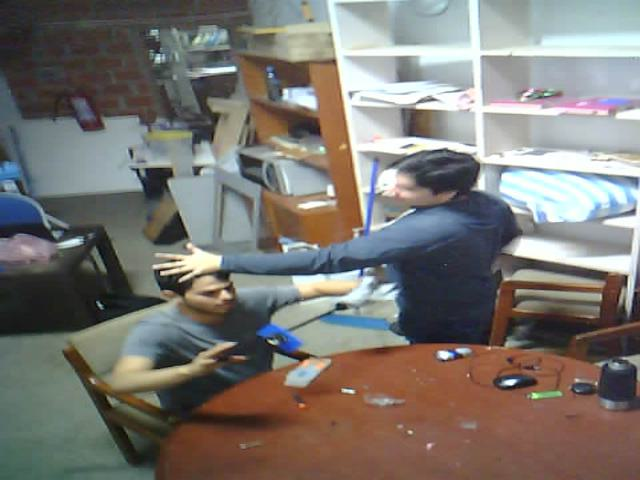person: (47, 191, 355, 417), (326, 118, 530, 377)
